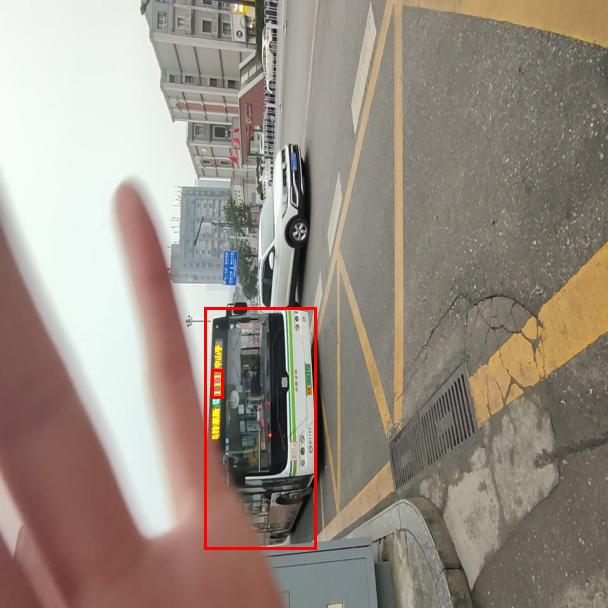bus: (204, 307, 316, 549)
screen: (211, 369, 223, 398)
